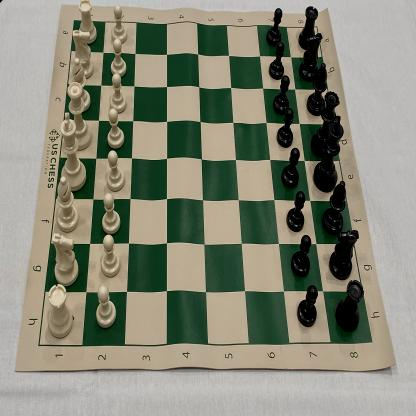black-bishop: (322, 181, 347, 234), (306, 63, 328, 116)
black-king: (314, 116, 346, 192)
black-pawn: (297, 282, 318, 330), (292, 233, 311, 277), (276, 104, 294, 148), (287, 187, 305, 231), (282, 145, 300, 187), (272, 74, 290, 113), (268, 41, 286, 79), (266, 8, 283, 46)
black-queen: (316, 90, 340, 150)
black-rook: (329, 226, 359, 280), (334, 279, 364, 332), (299, 32, 322, 79), (299, 6, 319, 50)
white-bishop: (54, 174, 79, 230), (69, 58, 91, 112)
white-king: (58, 112, 87, 191)
white-knight: (51, 230, 79, 286), (72, 29, 95, 78)
white-pawn: (96, 234, 121, 278), (92, 285, 117, 329), (102, 149, 125, 193), (102, 108, 125, 149), (97, 194, 121, 233), (107, 73, 127, 113), (107, 38, 127, 76), (107, 5, 127, 42)
white-queen: (65, 82, 92, 150)
white-rook: (46, 281, 74, 339), (76, 0, 98, 44)
